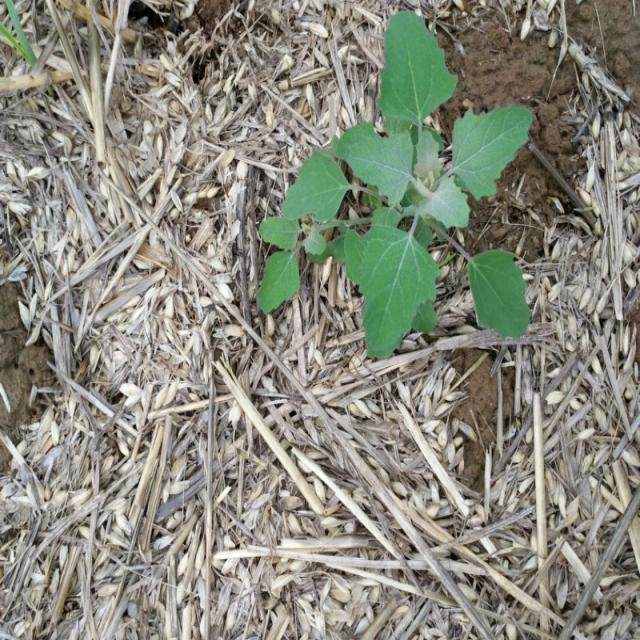goosefoots: (242, 24, 555, 347)
